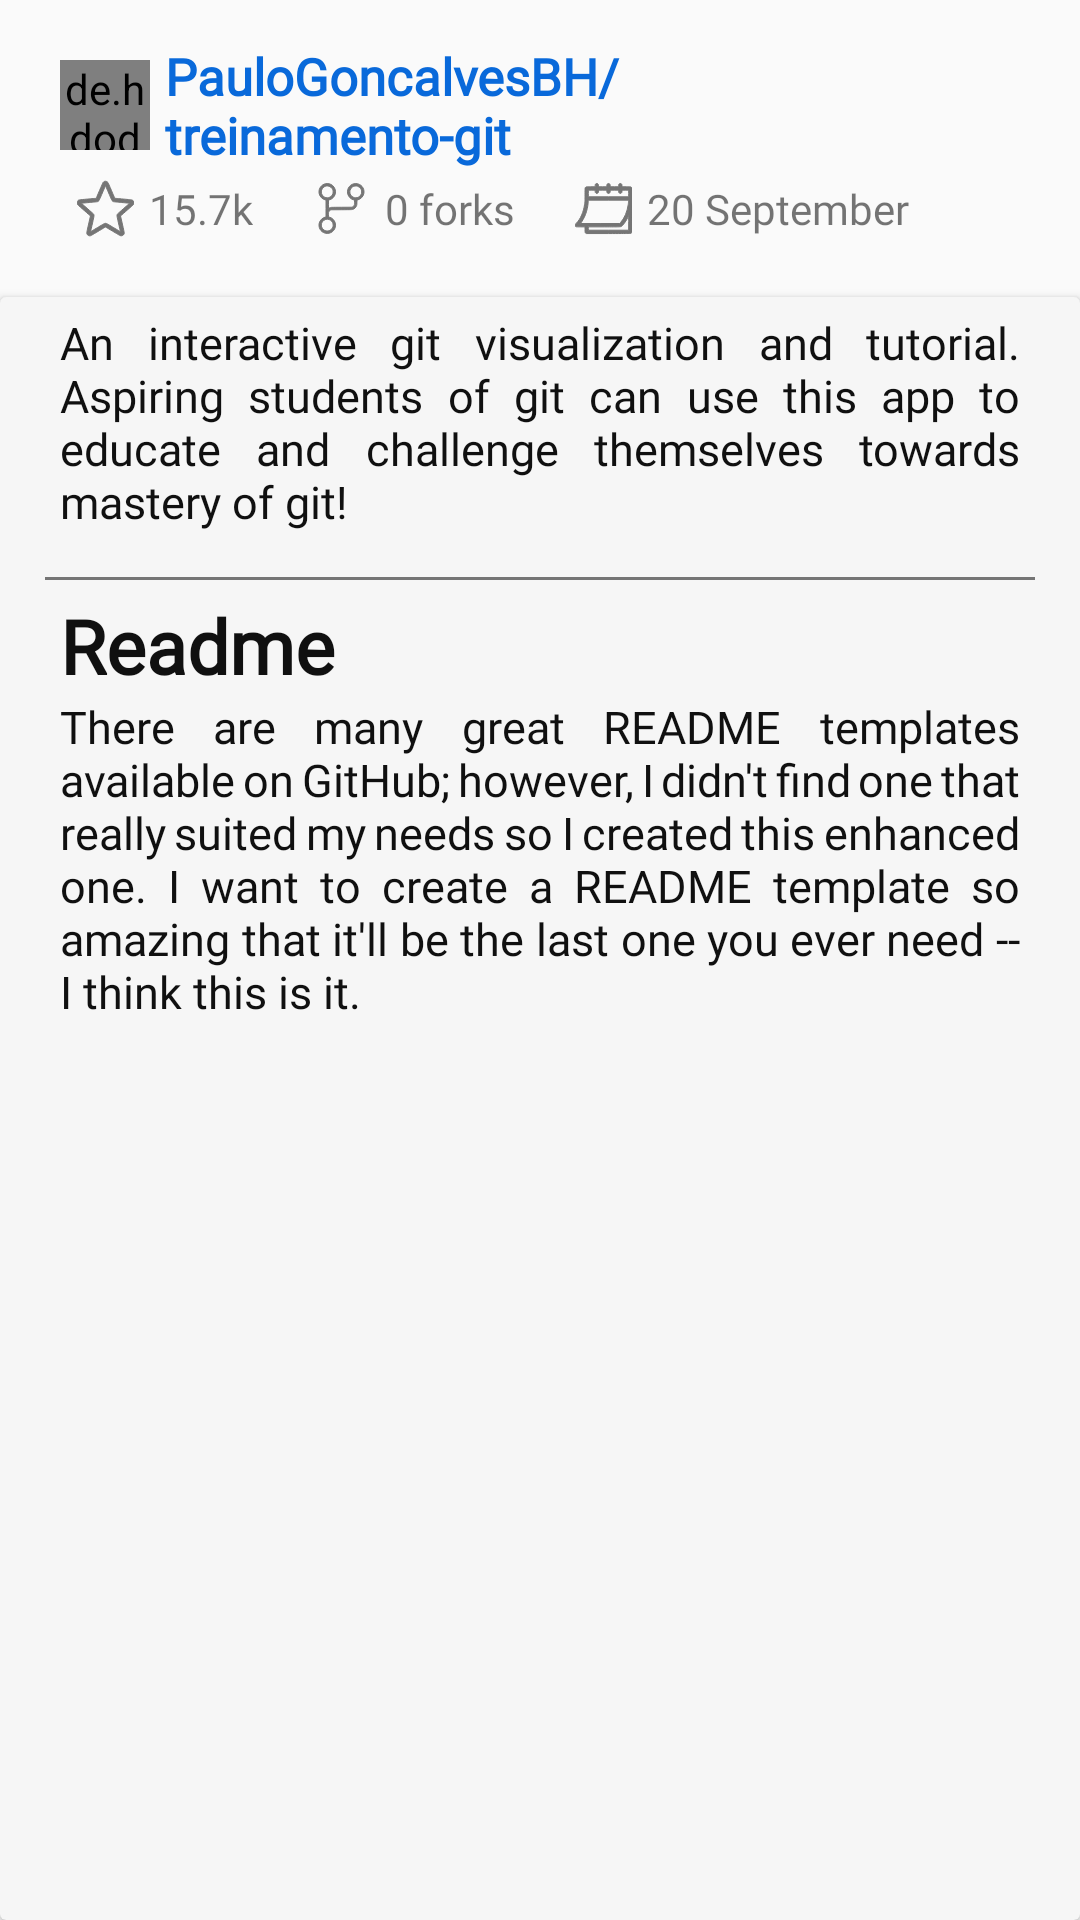

Point at icon controls on the screen. Image size 1080w x 1920h, points as (x,y).
calendar: (603,208)
star: (105,208)
